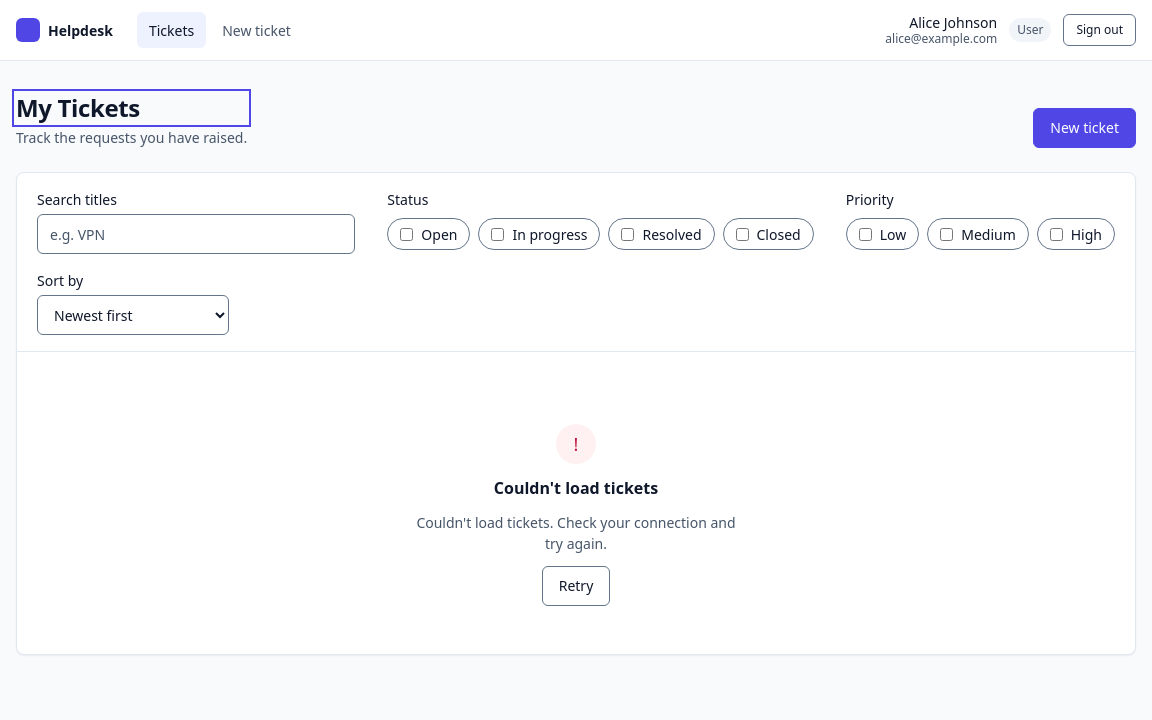
Scenario: TicketListPage › shows an error state with Retry when loading fails
expect the text "Couldn't load tickets. Check your connection and try again." is shown: met, box [416,512,736,554]
What coordinates should you click on to do the following:
click the button "Retry"
I would click on:
 (576, 586)
Its box is [542,566,610,606].
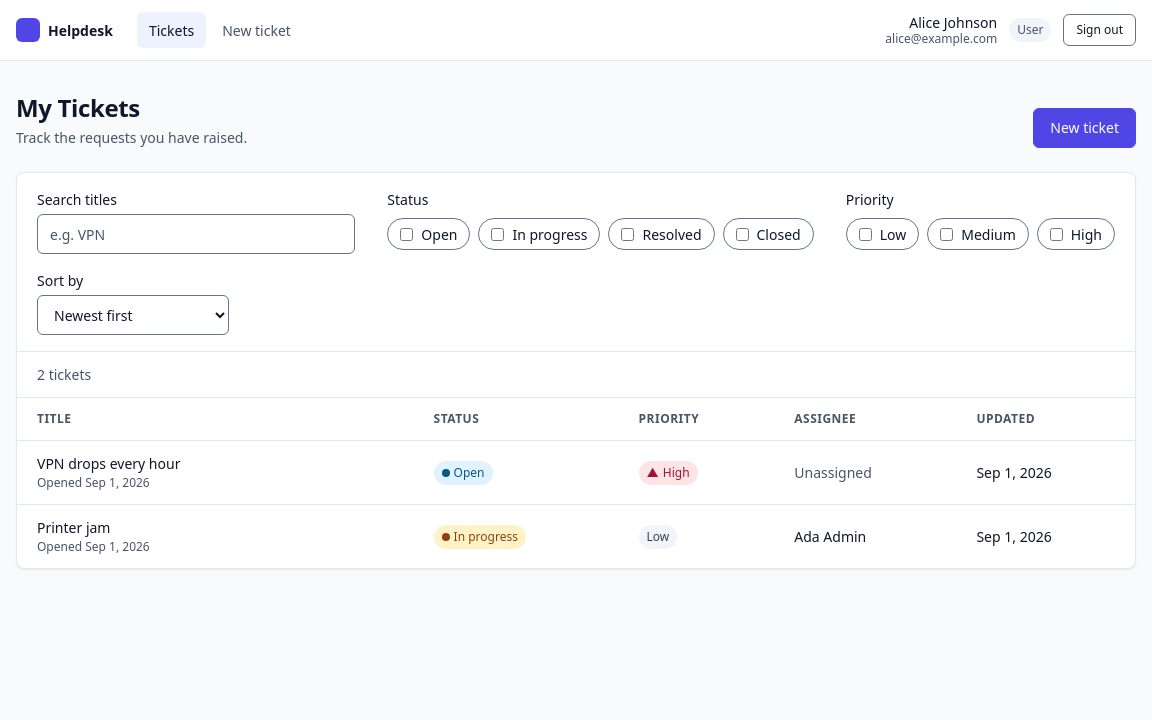
expect the link "Printer jam" is shown: met, box [37,518,110,537]
